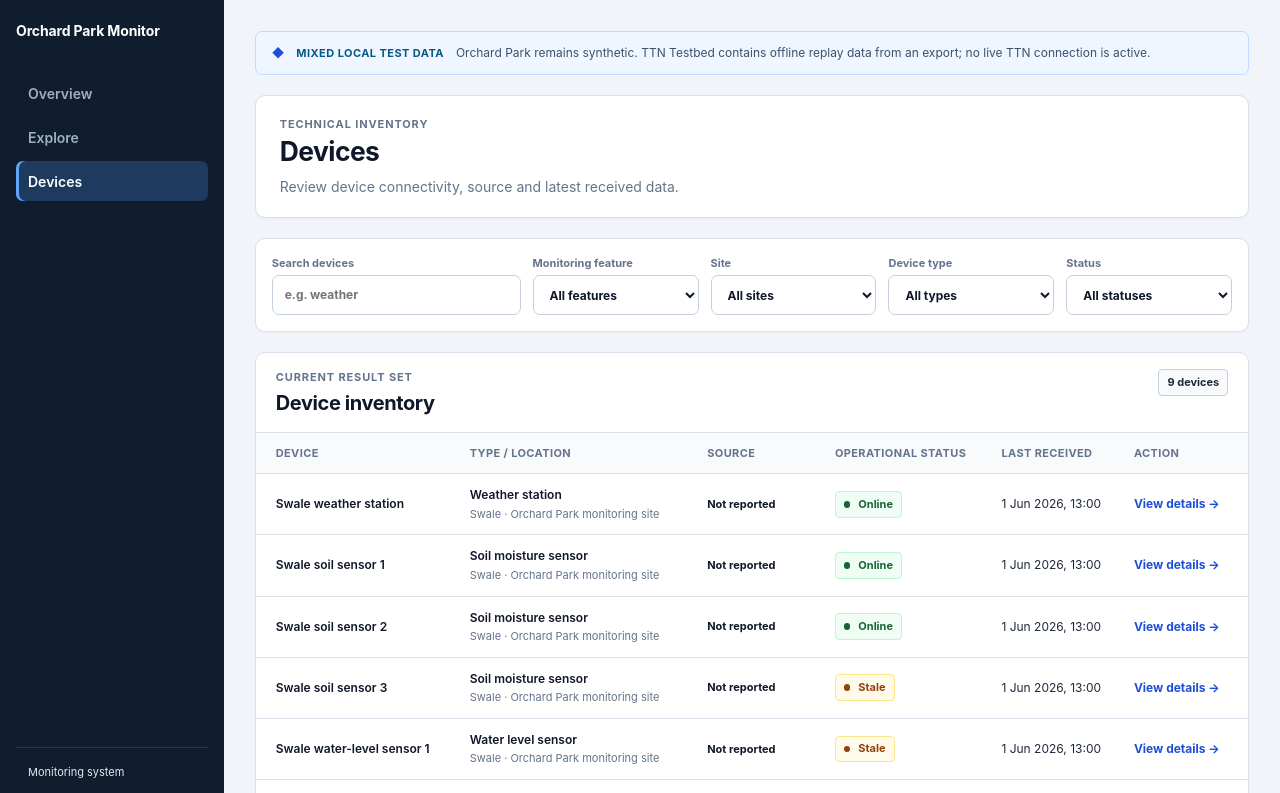
it: monitoring dashboard › keeps the eight Orchard devices isolated from the ninth TTN Testbed row
Select "Orchard Park monitoring site" in the dropdown labelled "Site" at x=793, y=295, box [710,275,876,315]
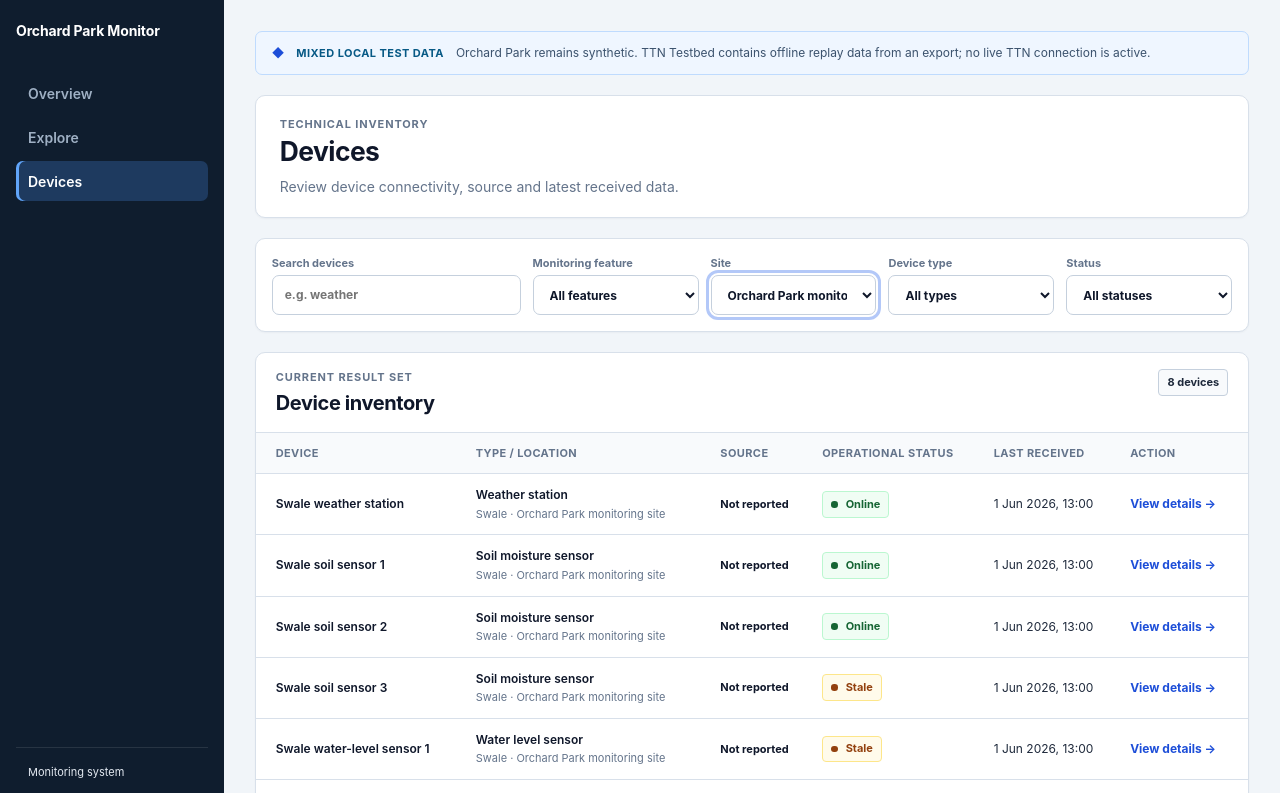
Expected: the text "Outflow A" is not shown
Now the number of rows is 9
Select "TTN Testbed" in the dropdown labelled "Site" at x=793, y=295, box [710,275,876,315]
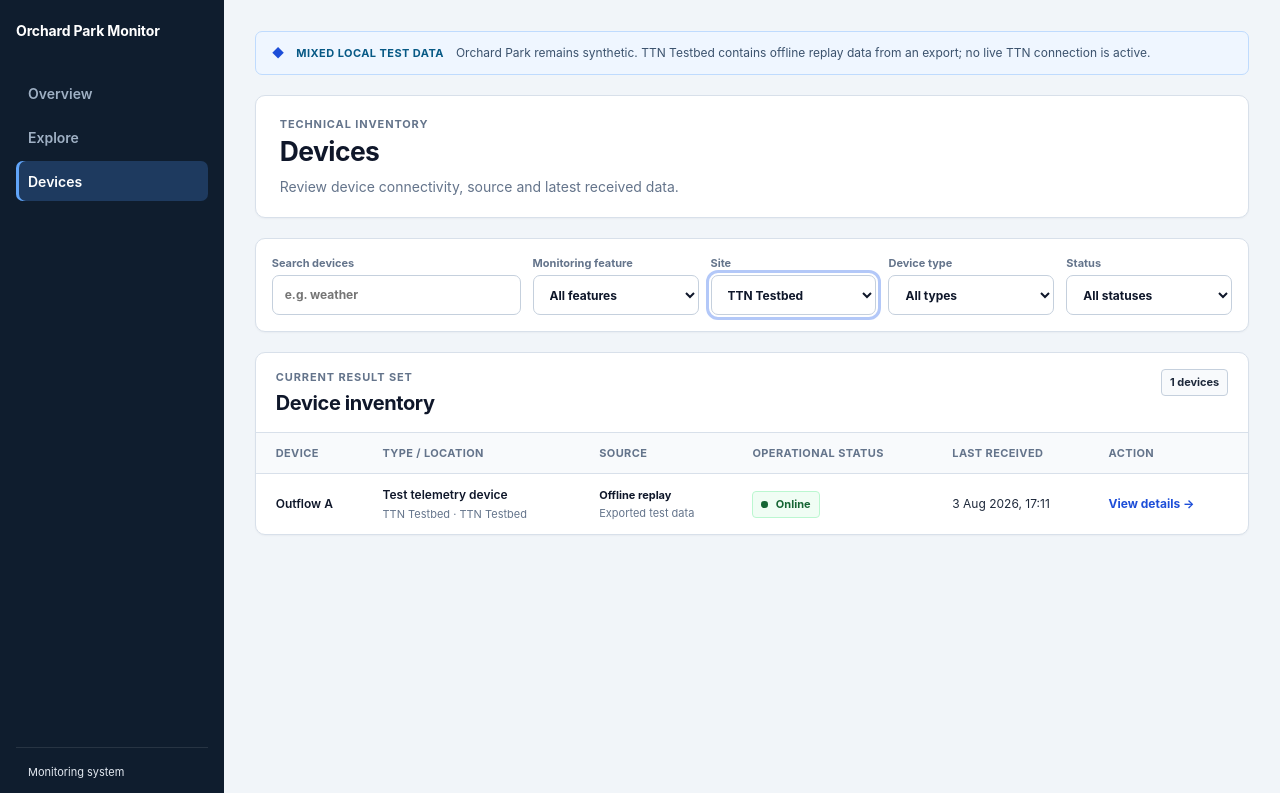
Now the text "Outflow A" is shown, box [276,496,333,511]
Now the number of rows is 2, box [256,433,1248,474]; [256,474,1248,534]
